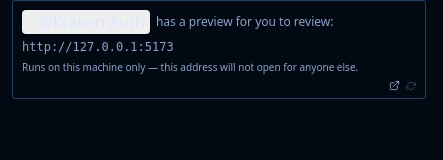
a preview card opens its own agent's port, or refuses › REFUSES when the port the card holds is no longer this agent's, and says so
The image size is (443, 160).
Double-click the element with test id "concierge-preview-card": (219, 50) [12,0,426,99]
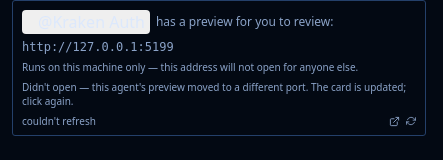
expect the message with test id "concierge-preview-refused" is shown: met, box [22,80,416,108]
expect the message with test id "concierge-preview-refused" shows "Didn't open — this agent's preview moved to a different port. The card is updated; click again.": met, box [22,80,406,108]
